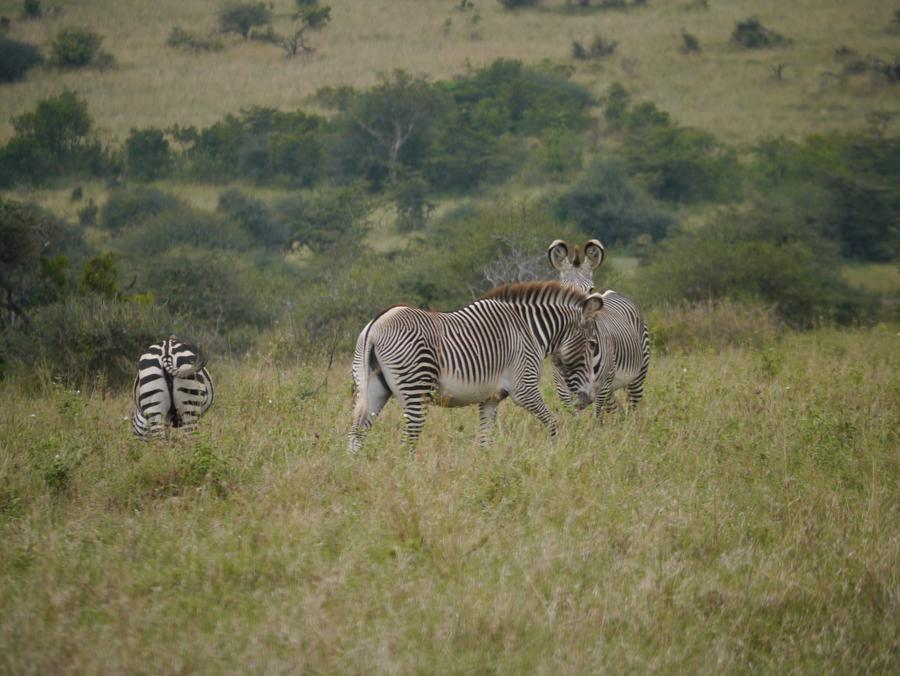zebra_grevys: (355, 300, 538, 383)
